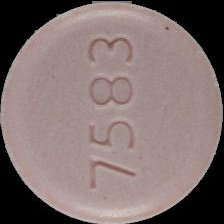0093-7583: (0, 0, 224, 224)
